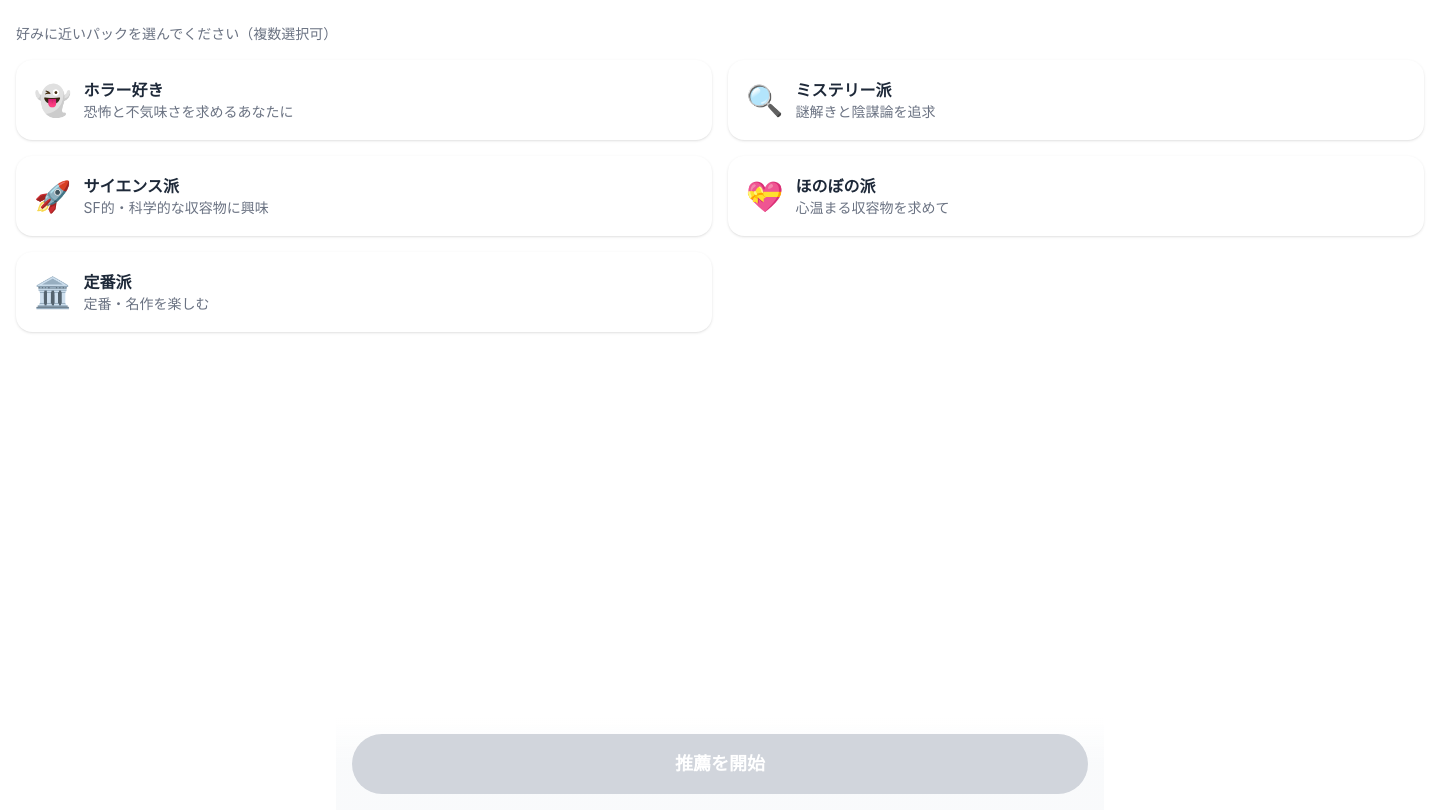
Test: PackSelector › AC-2: パック選択（複数選択対応） › 複数のパックを同時に選択できる
This screenshot has width=1440, height=810.
Expected: the heading "ホラー好き" is shown, x1=83 y1=80 x2=163 y2=100
Click the button "👻 ホラー好き 恐怖と不気味さを求めるあなたに" at (53, 100), box x1=16 y1=60 x2=712 y2=140
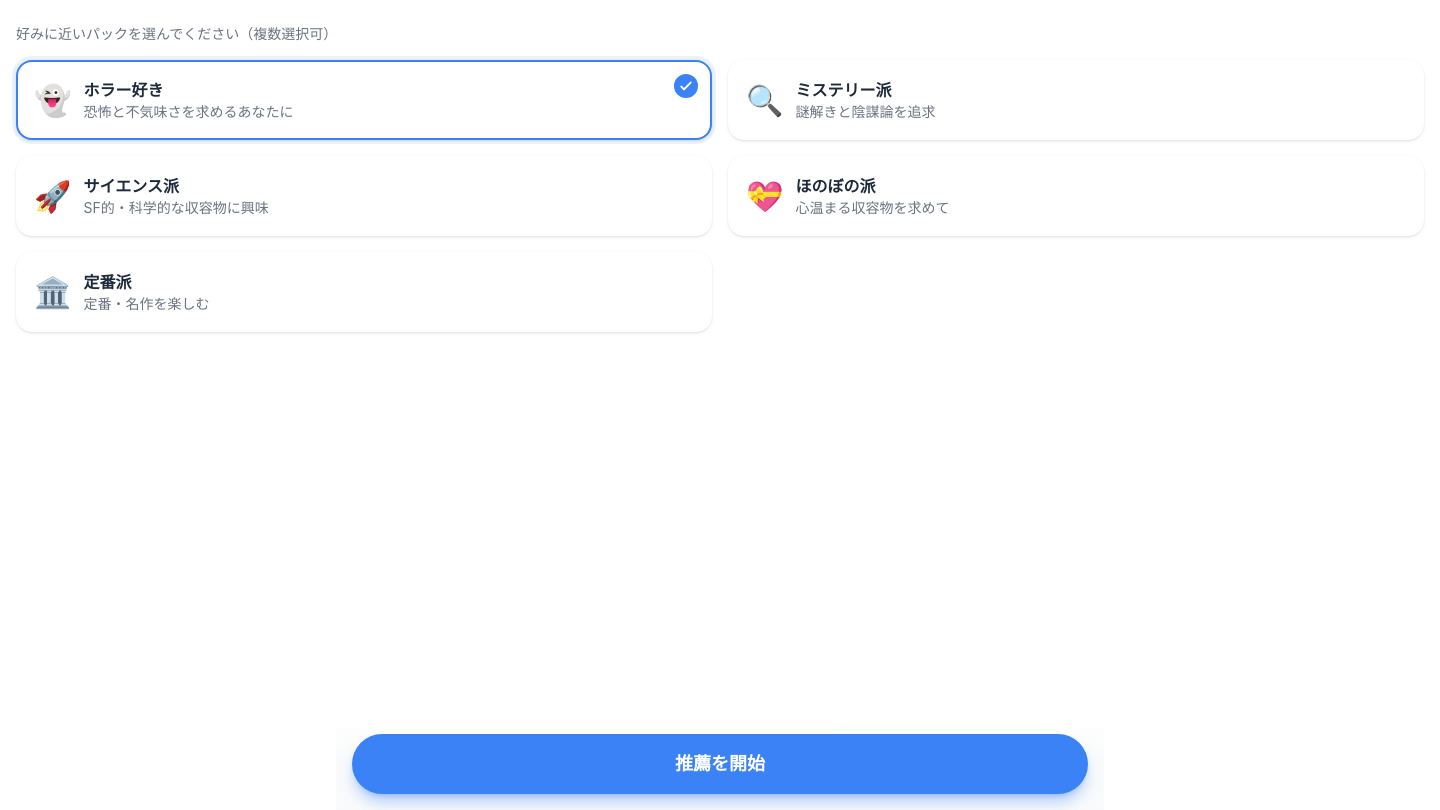
# ミステリーも選択
Click the button "🔍 ミステリー派 謎解きと陰謀論を追求" at (765, 100), box x1=728 y1=60 x2=1424 y2=140
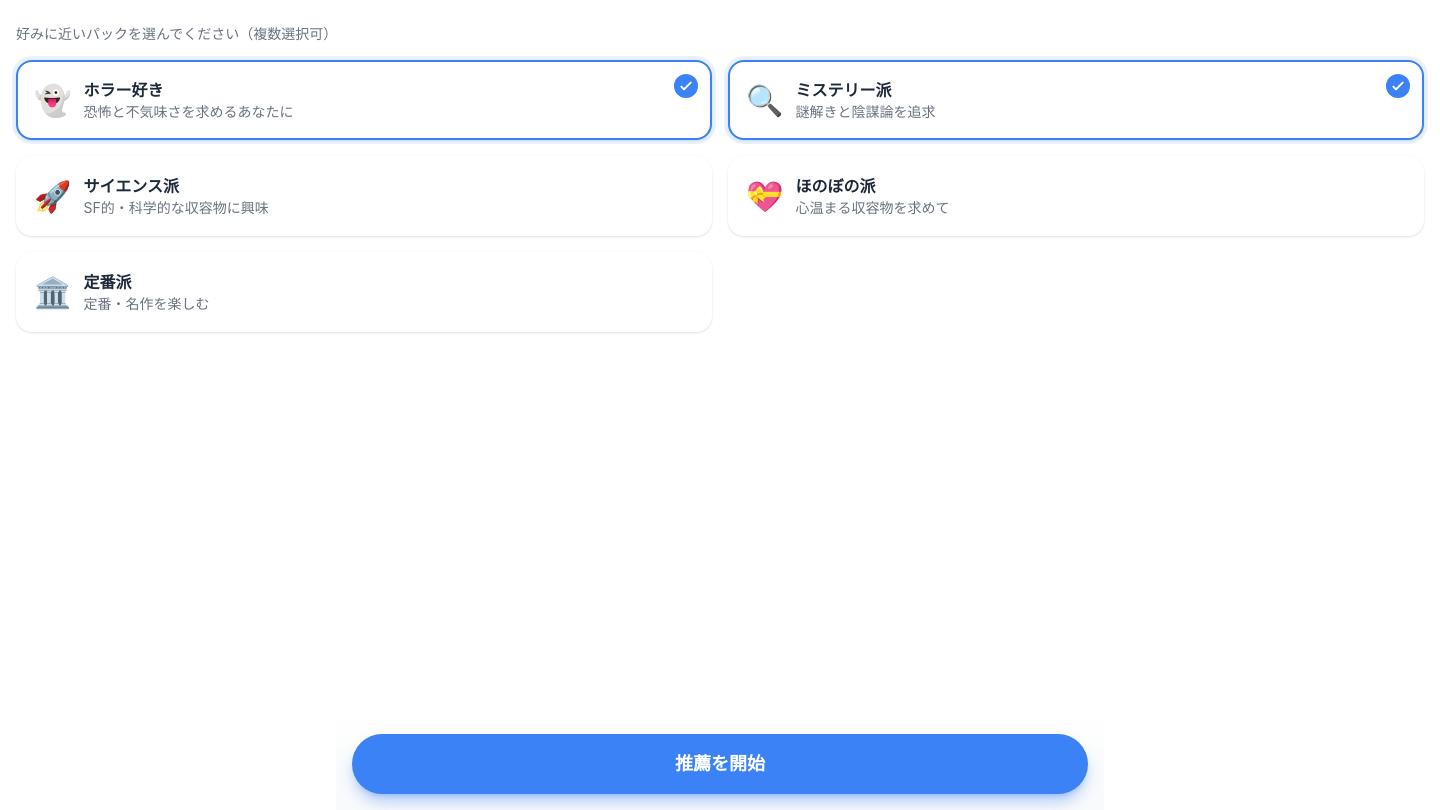
Expected: the number of elements with test id "pack-check" is 2, x1=674 y1=74 x2=698 y2=98; x1=1386 y1=74 x2=1410 y2=98
